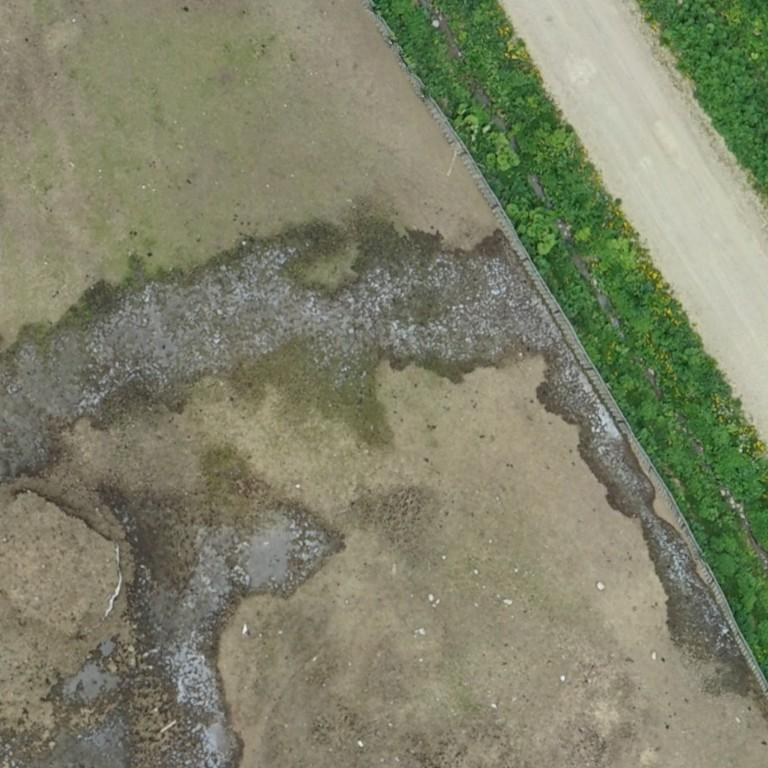hogweed: (651, 318, 715, 397), (547, 154, 591, 216), (613, 275, 652, 314)
